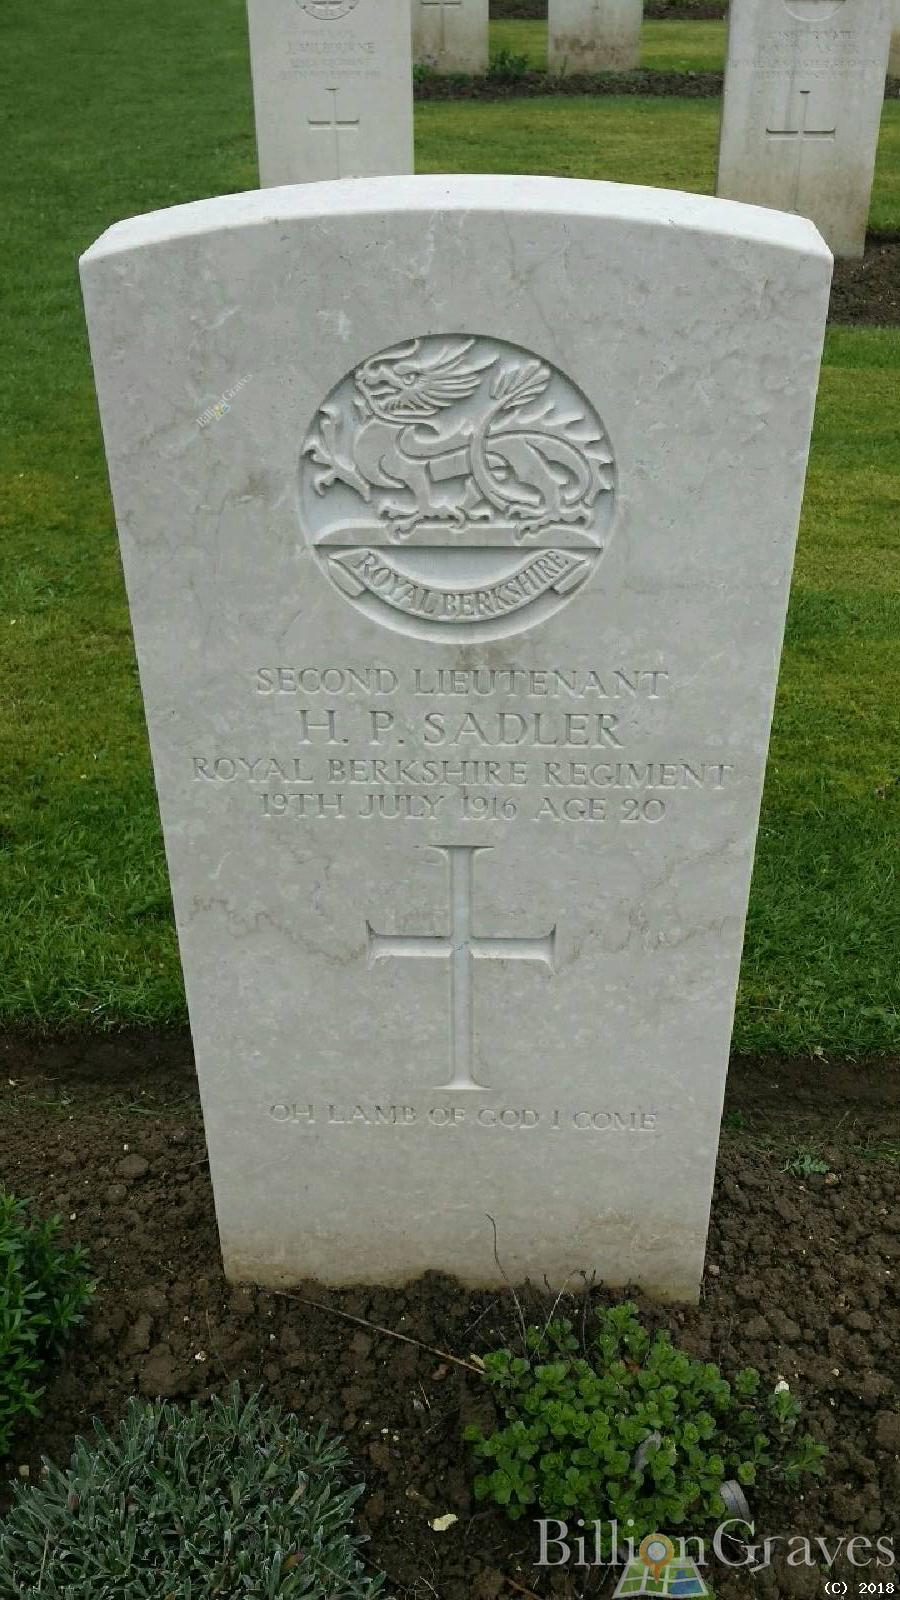military: (38, 140, 867, 1329)
